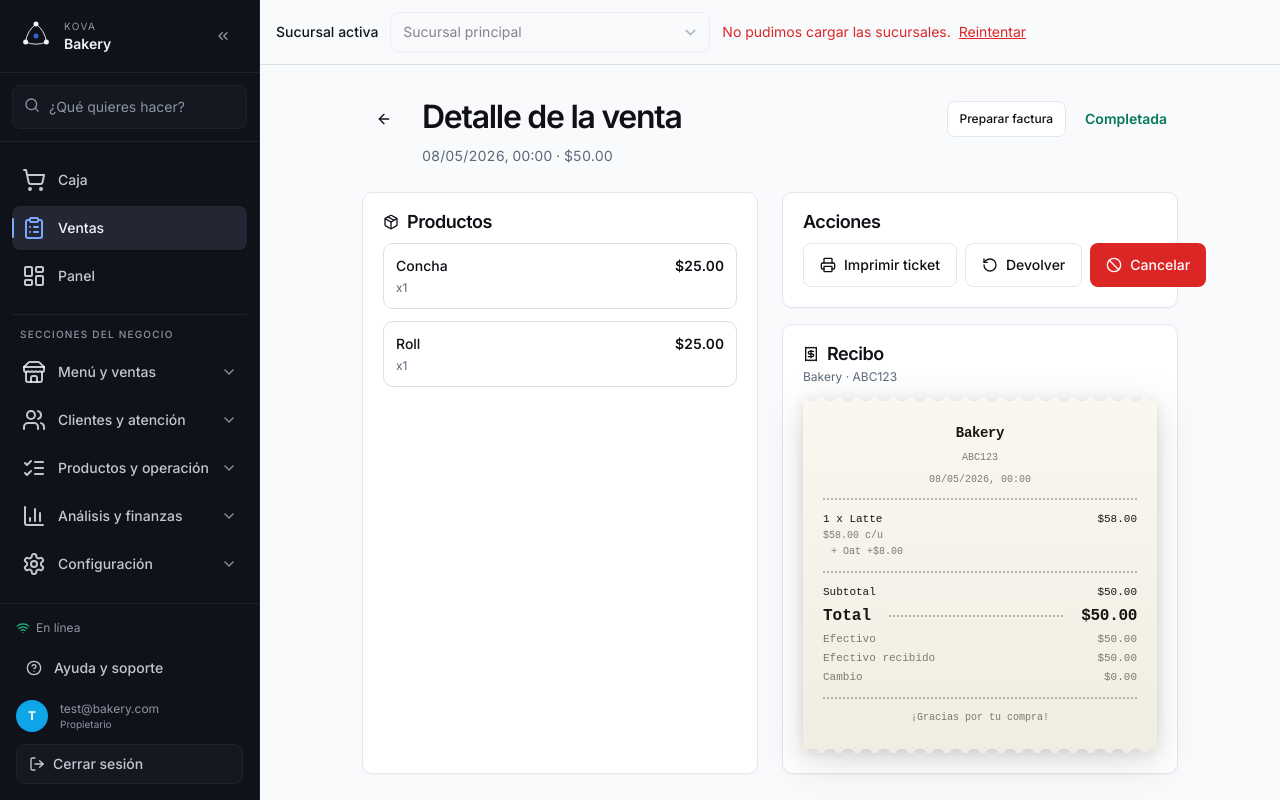
Test: OrderDetail › keeps the refund intent recoverable when session refresh is temporarily unavailable
Click the button "Devolver" at (1024, 265), box [965,243,1082,287]
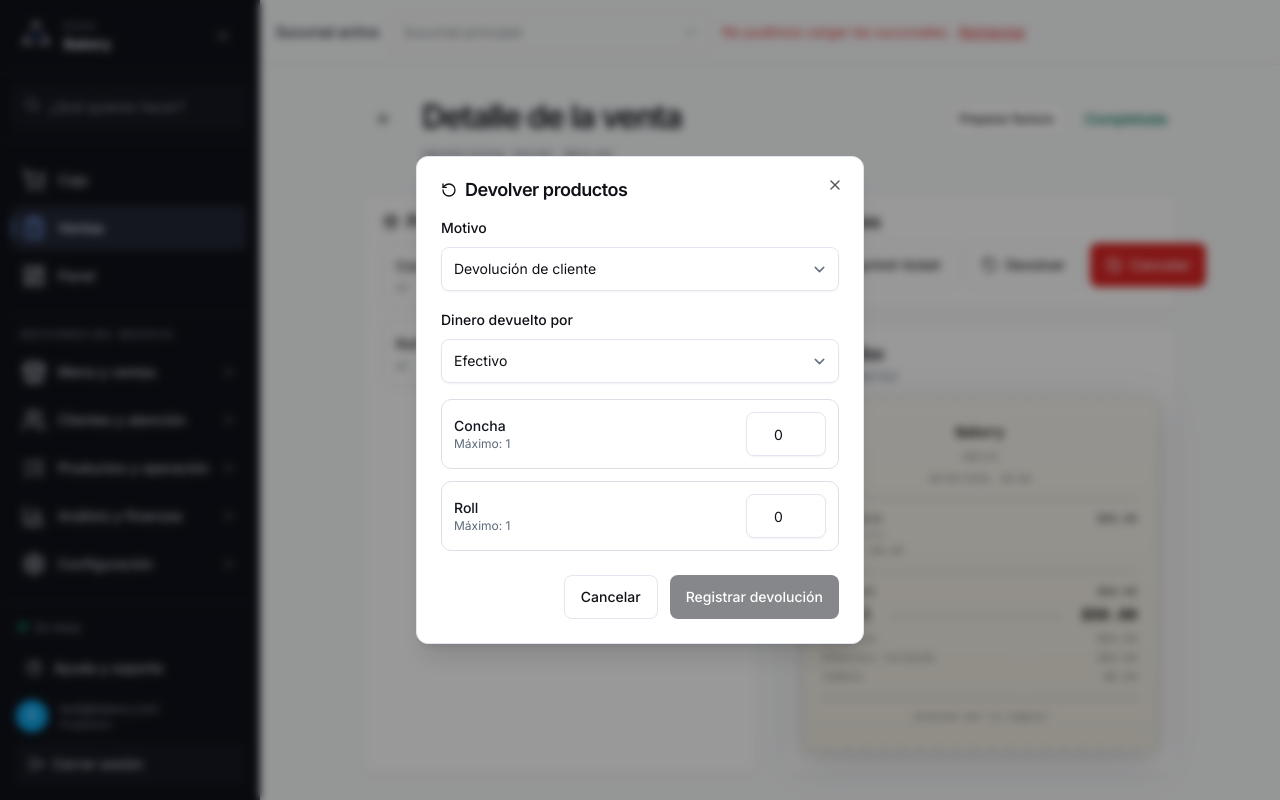
Replace the text in the number field named "Concha Cantidad" with "1" at (786, 434), box [746,412,826,456]
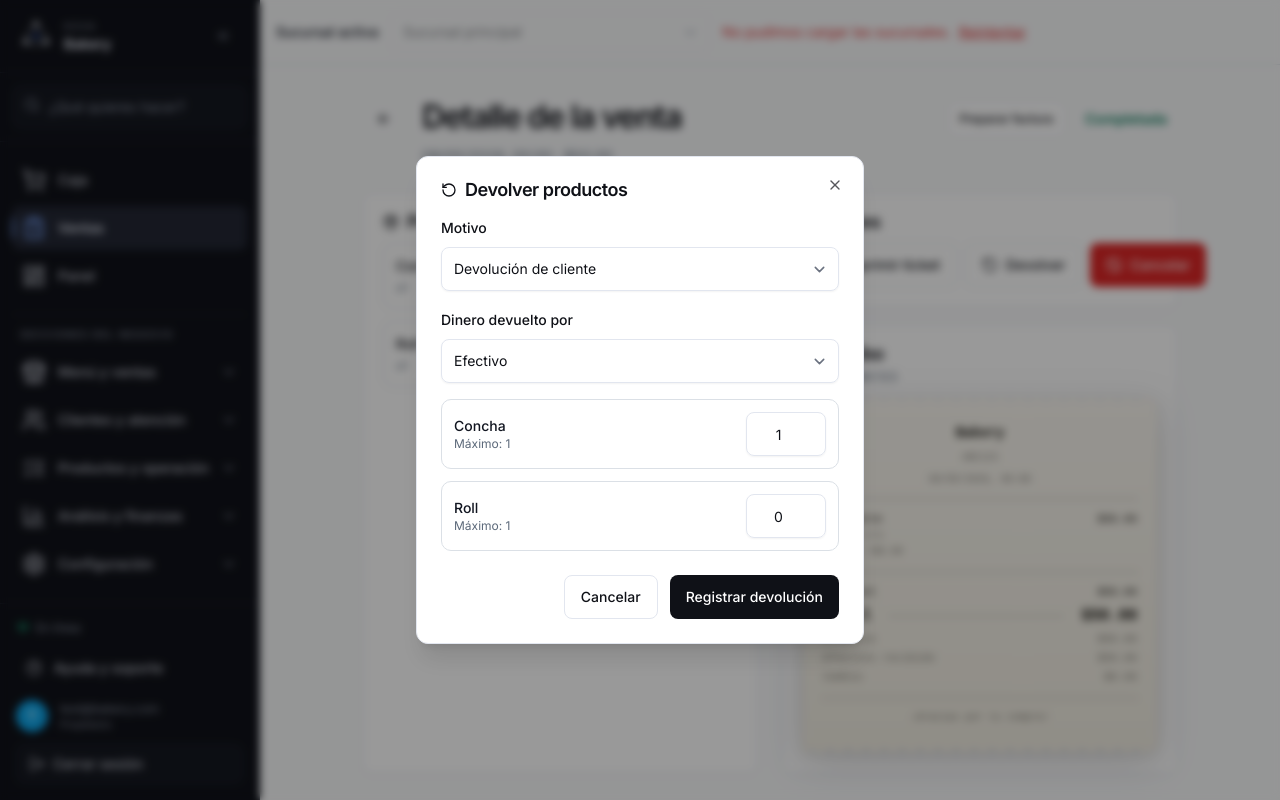
Click the button "Registrar devolución" at (754, 597), box [670,575,839,619]
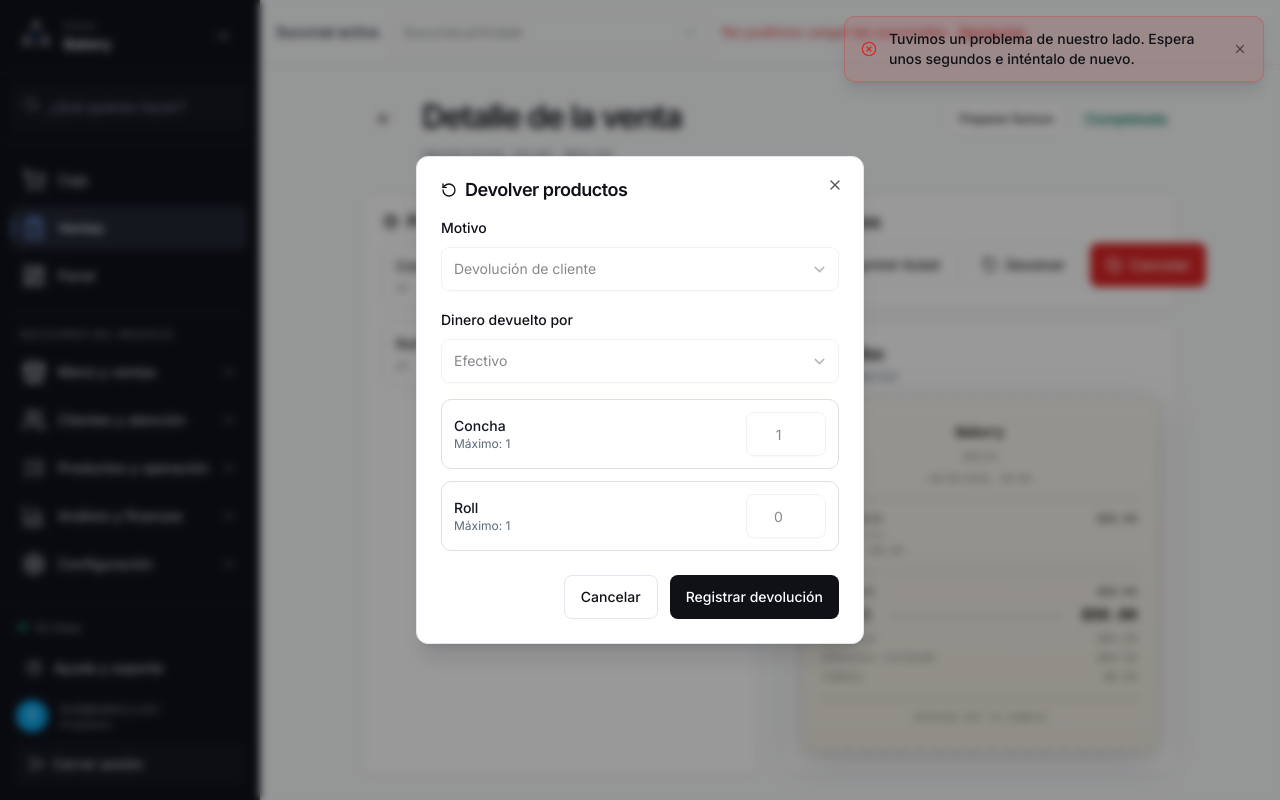
Expected: the number field named "Concha Cantidad" is disabled, [746,412,826,456]
Result: the text "problema de nuestro lado" is shown at [889,30,1194,67]
Click the button "Registrar devolución" at (754, 597), box [670,575,839,619]
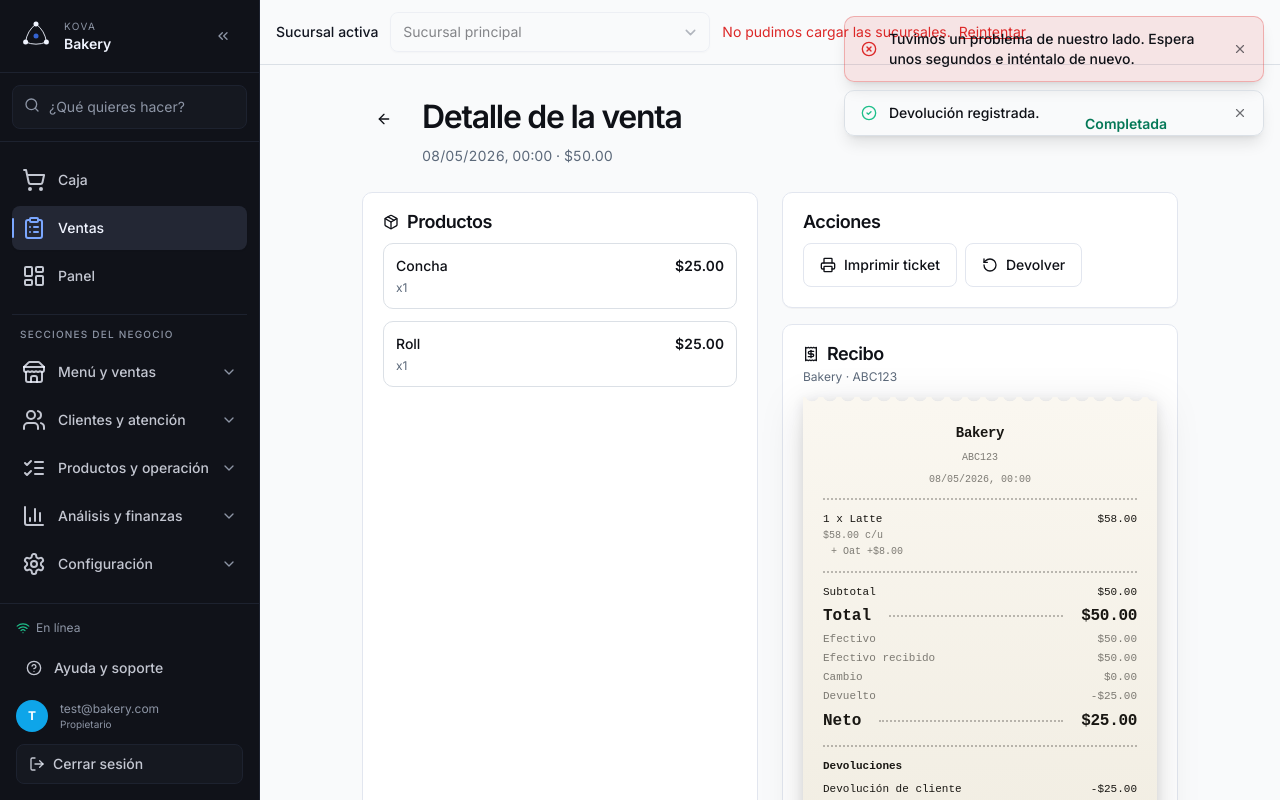
Result: the text "Devolución registrada." is shown at [889,104,1040,121]
